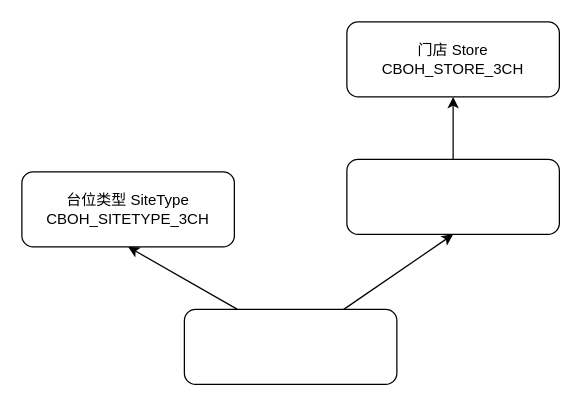
The diagram is 581 pixels wide and 406 high, and some of its shapes have lost their labels. The box of each missing label's shape, as (x1, y1, x2, y2) in pixels:
台位 SiteDefine CBOH_SITEDEFINE_3CH: (183, 308, 397, 384)
门店区域 StoreArear CBOH_STOREAREAR_3CH: (346, 158, 559, 234)
